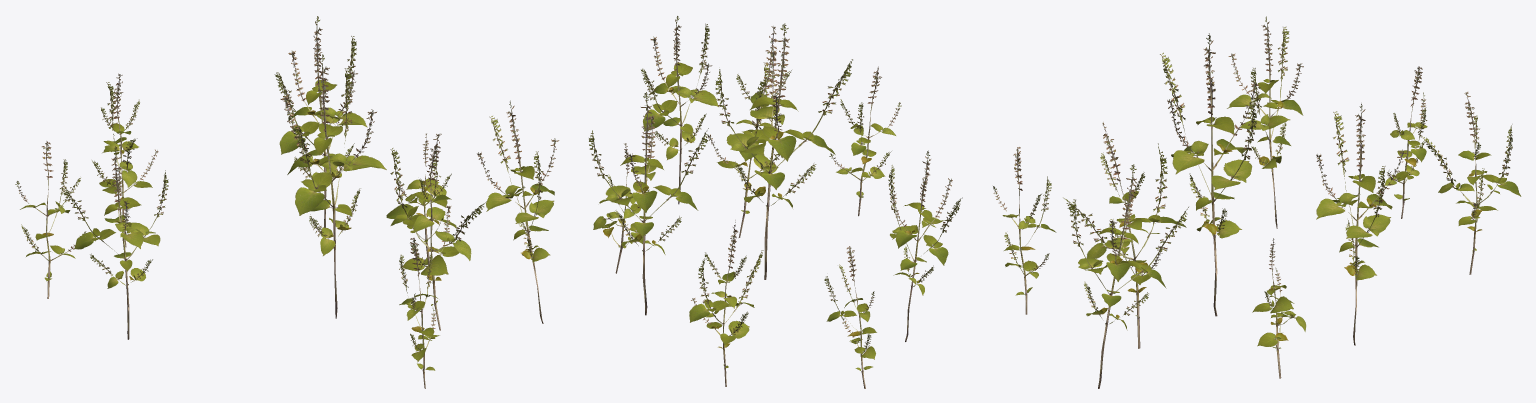
Rendered from Scan_Weeds_A.fbx.
3 views of the same model, side by side, from view 1: azimuth 30°, elevation 25°; view 2: azimuth 150°, elevation 25°; view 3: azimuth 270°, elevation 25° (orthographic). The views are drawn at different scales.
Visible parts, largest first — view 1: Scan_Weeds_A_LOD0; view 2: Scan_Weeds_A_LOD0; view 3: Scan_Weeds_A_LOD0.
Boxes of the visible parts, x1=… form: Scan_Weeds_A_LOD0: x1=15, y1=16, x2=559, y2=388; Scan_Weeds_A_LOD0: x1=589, y1=16, x2=962, y2=388; Scan_Weeds_A_LOD0: x1=993, y1=16, x2=1521, y2=388.
Size of what is drawn, in the model's own units: 0.7793 by 0.4937 by 0.8541.
